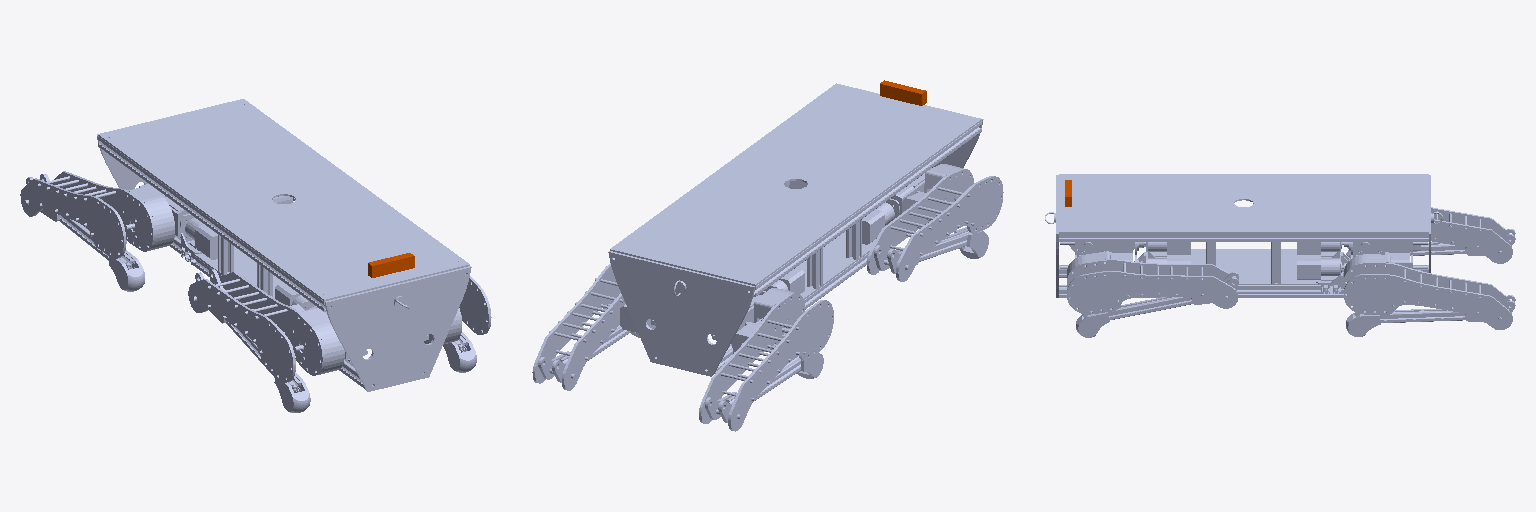
--- What the picture shows (computed from the rendered views, not written in the file) ---
The picture shows the robot from 3 angles, left to right: view 1: azimuth 30°, elevation 25°; view 2: azimuth 150°, elevation 25°; view 3: azimuth 270°, elevation 25°; orthographic projection.
Robot: description_v2 — 14 links, 13 joints (12 revolute, 1 fixed); root link base_link; default pose: every joint at zero.
Links seen in each view (by area): view 1: base_link, frhp, rrhp, rrkp, flhp, frkp, flkp, camera_link; view 2: base_link, rrhp, frhp, rlhp, frkp, rrkp, rlkp, camera_link; view 3: base_link, rlhp, flhp, rrhp, rlkp, flkp, rrkp, rrhr, frhr.
Link boxes in pixels (box(x1,y1,x2,y2)): base_link: box(97, 99, 471, 391); frhp: box(188, 271, 344, 382); rrhp: box(20, 171, 174, 258); rrkp: box(26, 174, 144, 291); flhp: box(424, 276, 491, 344); frkp: box(195, 269, 310, 412); flkp: box(443, 332, 476, 372); camera_link: box(368, 253, 414, 277); base_link: box(608, 83, 983, 376); rrhp: box(699, 288, 833, 431); frhp: box(867, 164, 1003, 281); rlhp: box(532, 263, 650, 390); frkp: box(874, 227, 988, 273); rrkp: box(705, 353, 823, 422); rlkp: box(538, 325, 655, 382); camera_link: box(880, 80, 926, 105); base_link: box(1045, 174, 1442, 297); rlhp: box(1344, 254, 1512, 329); flhp: box(1067, 251, 1237, 314); rrhp: box(1347, 207, 1512, 263); rlkp: box(1346, 295, 1515, 336); flkp: box(1076, 272, 1238, 337); rrkp: box(1346, 229, 1515, 258); rrhr: box(1344, 242, 1427, 254); frhr: box(1060, 242, 1143, 254).
Size in the robot's own frame: 0.3837 by 0.9414 by 0.2545 metres.
13 mesh visuals loaded from 13 distinct referenced files (13 binary STL).

robot.urdf — description_v2:
<?xml version="1.0" encoding="utf-8" ?>
<!-- This URDF was automatically created by SolidWorks to URDF Exporter! Originally created by Stephen Brawner ([email redacted]) 
     Commit Version: 1.6.0-1-g15f4949  Build Version: 1.6.7594.29634
     For more information, please see http://wiki.ros.org/sw_urdf_exporter -->
<robot name="description_v2">
    <link name="base_link">
        <inertial>
            <origin xyz="1.10071300954903E-13 -0.0804314674208866 -3.72594215378661E-13" rpy="0 0 0" />
            <mass value="2.59149526077751" />
            <inertia ixx="0.0556620512133462" ixy="1.41894541422012E-08" ixz="-9.1623414139393E-16" iyy="0.0609675024722487" iyz="1.98357895211907E-15" izz="0.00751873000876317" />
        </inertial>
        <visual>
            <origin xyz="0 0 0" rpy="0 0 0" />
            <geometry>
                <mesh filename="package://description_v2/meshes/base_link.STL" />
            </geometry>
            <material name="">
                <color rgba="0.792156862745098 0.819607843137255 0.933333333333333 1" />
            </material>
        </visual>
        <collision>
            <origin xyz="0 0 0" rpy="0 0 0" />
            <geometry>
                <mesh filename="package://description_v2/meshes/base_link.STL" />
            </geometry>
        </collision>
    </link>
    <link name="flhr">
        <inertial>
            <origin xyz="-0.0700708098978081 2.63677968348475E-16 -0.000779776432071576" rpy="0 0 0" />
            <mass value="0.194475232481071" />
            <inertia ixx="4.95706831903783E-05" ixy="3.56082054761659E-20" ixz="1.47917712706166E-05" iyy="0.000249341771263753" iyz="-4.37225042511692E-22" izz="0.000252242436696808" />
        </inertial>
        <visual>
            <origin xyz="0 0 0" rpy="0 0 0" />
            <geometry>
                <mesh filename="package://description_v2/meshes/flhr.STL" />
            </geometry>
            <material name="">
                <color rgba="0.792156862745098 0.819607843137255 0.933333333333333 1" />
            </material>
        </visual>
        <collision>
            <origin xyz="0 0 0" rpy="0 0 0" />
            <geometry>
                <mesh filename="package://description_v2/meshes/flhr.STL" />
            </geometry>
        </collision>
    </link>
    <joint name="j_flhr" type="revolute">
        <origin xyz="0.0574999999996618 -0.200299999999298 -0.114999999999853" rpy="1.5707963267949 0 1.5707963267949" />
        <parent link="base_link" />
        <child link="flhr" />
        <axis xyz="1 0 0" />
        <limit lower="-0.5236" upper="0.34907" effort="10" velocity="10" />
    </joint>
    <link name="flhp">
        <inertial>
            <origin xyz="0.0625017771112232 -0.00995729962485614 0.0500334632748604" rpy="0 0 0" />
            <mass value="0.54805543393771" />
            <inertia ixx="0.000366842886944484" ixy="0.000385861397834549" ixz="1.60537120413725E-05" iyy="0.00215260706012929" iyz="-4.291557447141E-06" izz="0.00242131957628299" />
        </inertial>
        <visual>
            <origin xyz="0 0 0" rpy="0 0 0" />
            <geometry>
                <mesh filename="package://description_v2/meshes/flhp.STL" />
            </geometry>
            <material name="">
                <color rgba="0.792156862745098 0.819607843137255 0.933333333333333 1" />
            </material>
        </visual>
        <collision>
            <origin xyz="0 0 0" rpy="0 0 0" />
            <geometry>
                <mesh filename="package://description_v2/meshes/flhp.STL" />
            </geometry>
        </collision>
    </link>
    <joint name="j_flhp" type="revolute">
        <origin xyz="-0.11 0 0.01935" rpy="0 0 0.23805" />
        <parent link="flhr" />
        <child link="flhp" />
        <axis xyz="0 0 1" />
        <limit lower="-1.5708" upper="0" effort="10" velocity="10" />
    </joint>
    <link name="flkp">
        <inertial>
            <origin xyz="-0.142429073555873 -0.095200420459897 0.0169765532365606" rpy="0 0 0" />
            <mass value="0.121696080036638" />
            <inertia ixx="9.46916554390342E-05" ixy="-0.000113408885572565" ixz="6.44304181281108E-11" iyy="0.000189243119965143" iyz="-1.12326363178312E-10" izz="0.000269729577438877" />
        </inertial>
        <visual>
            <origin xyz="0 0 0" rpy="0 0 0" />
            <geometry>
                <mesh filename="package://description_v2/meshes/flkp.STL" />
            </geometry>
            <material name="">
                <color rgba="0.792156862745098 0.819607843137255 0.933333333333333 1" />
            </material>
        </visual>
        <collision>
            <origin xyz="0 0 0" rpy="0 0 0" />
            <geometry>
                <mesh filename="package://description_v2/meshes/flkp.STL" />
            </geometry>
        </collision>
    </link>
    <joint name="j_flkp" type="revolute">
        <origin xyz="0.265328222917277 -0.0707172830612114 0.0630234621858951" rpy="0 0 -0.584123837375273" />
        <parent link="flhp" />
        <child link="flkp" />
        <axis xyz="0 0 1" />
        <limit lower="0" upper="1.6057" effort="10" velocity="10" />
    </joint>
    <link name="rlhr">
        <inertial>
            <origin xyz="0.0798069766837164 8.86630914381792E-08 -0.000779776427032086" rpy="0 0 0" />
            <mass value="0.194475232481071" />
            <inertia ixx="4.95706831903784E-05" ixy="-9.74751830526731E-10" ixz="8.66258797825681E-06" iyy="0.000250295953234289" iyz="-3.25265625917476E-10" izz="0.000253196618594397" />
        </inertial>
        <visual>
            <origin xyz="0 0 0" rpy="0 0 0" />
            <geometry>
                <mesh filename="package://description_v2/meshes/rlhr.STL" />
            </geometry>
            <material name="">
                <color rgba="0.792156862745098 0.819607843137255 0.933333333333333 1" />
            </material>
        </visual>
        <collision>
            <origin xyz="0 0 0" rpy="0 0 0" />
            <geometry>
                <mesh filename="package://description_v2/meshes/rlhr.STL" />
            </geometry>
        </collision>
    </link>
    <joint name="j_rlhr" type="revolute">
        <origin xyz="0.0574999999996628 0.200300000000701 -0.114999999999858" rpy="1.57068414749628 0 1.5707963267949" />
        <parent link="base_link" />
        <child link="rlhr" />
        <axis xyz="1 0 0" />
        <limit lower="-0.5236" upper="0.34907" effort="10" velocity="10" />
    </joint>
    <link name="rlhp">
        <inertial>
            <origin xyz="0.0625017771112245 -0.00995729962485425 0.0500334632748606" rpy="0 0 0" />
            <mass value="0.548055433937709" />
            <inertia ixx="0.000366842886944487" ixy="0.000385861397834558" ixz="1.60537120413725E-05" iyy="0.00215260706012928" iyz="-4.29155744714101E-06" izz="0.00242131957628299" />
        </inertial>
        <visual>
            <origin xyz="0 0 0" rpy="0 0 0" />
            <geometry>
                <mesh filename="package://description_v2/meshes/rlhp.STL" />
            </geometry>
            <material name="">
                <color rgba="0.792156862745098 0.819607843137255 0.933333333333333 1" />
            </material>
        </visual>
        <collision>
            <origin xyz="0 0 0" rpy="0 0 0" />
            <geometry>
                <mesh filename="package://description_v2/meshes/rlhp.STL" />
            </geometry>
        </collision>
    </link>
    <joint name="j_rlhp" type="revolute">
        <origin xyz="0.043 0 0.01935" rpy="0.00011195 0 0.063519" />
        <parent link="rlhr" />
        <child link="rlhp" />
        <axis xyz="0 0 1" />
        <limit lower="-1.3963" upper="0" effort="10" velocity="10" />
    </joint>
    <link name="rlkp">
        <inertial>
            <origin xyz="-0.142429113121171 -0.0952004635662916 0.0169765557128041" rpy="0 0 0" />
            <mass value="0.121696119554221" />
            <inertia ixx="9.46916642378556E-05" ixy="-0.000113408954060324" ixz="6.22689213955761E-11" iyy="0.000189243100533313" iyz="-9.73939890663566E-11" izz="0.000269729635188775" />
        </inertial>
        <visual>
            <origin xyz="0 0 0" rpy="0 0 0" />
            <geometry>
                <mesh filename="package://description_v2/meshes/rlkp.STL" />
            </geometry>
            <material name="">
                <color rgba="0.792156862745098 0.819607843137255 0.933333333333333 1" />
            </material>
        </visual>
        <collision>
            <origin xyz="0 0 0" rpy="0 0 0" />
            <geometry>
                <mesh filename="package://description_v2/meshes/rlkp.STL" />
            </geometry>
        </collision>
    </link>
    <joint name="j_rlkp" type="revolute">
        <origin xyz="0.265328222917278 -0.0707172830612103 0.0630234621858946" rpy="0 0 -0.584123837375259" />
        <parent link="rlhp" />
        <child link="rlkp" />
        <axis xyz="0 0 1" />
        <limit lower="0" upper="1.6057" effort="10" velocity="10" />
    </joint>
    <link name="frhr">
        <inertial>
            <origin xyz="-0.0700708098978081 2.4980018054066E-16 -0.000779776432071645" rpy="0 0 0" />
            <mass value="0.194475232481071" />
            <inertia ixx="4.95706831903784E-05" ixy="8.70781725227972E-21" ixz="1.47917712706164E-05" iyy="0.000249341771263753" iyz="-1.6648663486486E-20" izz="0.000252242436696808" />
        </inertial>
        <visual>
            <origin xyz="0 0 0" rpy="0 0 0" />
            <geometry>
                <mesh filename="package://description_v2/meshes/frhr.STL" />
            </geometry>
            <material name="">
                <color rgba="0.792156862745098 0.819607843137255 0.933333333333333 1" />
            </material>
        </visual>
        <collision>
            <origin xyz="0 0 0" rpy="0 0 0" />
            <geometry>
                <mesh filename="package://description_v2/meshes/frhr.STL" />
            </geometry>
        </collision>
    </link>
    <joint name="j_frhr" type="revolute">
        <origin xyz="-0.0575000000003381 -0.200299999999298 -0.114999999999853" rpy="-1.5707963267949 0 1.5707963267949" />
        <parent link="base_link" />
        <child link="frhr" />
        <axis xyz="1 0 0" />
        <limit lower="-0.34907" upper="0.5236" effort="10" velocity="10" />
    </joint>
    <link name="frhp">
        <inertial>
            <origin xyz="0.0591532407326759 -0.0178475201337677 -0.0629327952000434" rpy="0 0 0" />
            <mass value="0.54805543393771" />
            <inertia ixx="0.000595462574673477" ixy="0.000709669958273173" ixz="3.83623609434648E-05" iyy="0.00192565530652331" iyz="-2.97095678996208E-05" izz="0.00241965164215998" />
        </inertial>
        <visual>
            <origin xyz="0 0 0" rpy="0 0 0" />
            <geometry>
                <mesh filename="package://description_v2/meshes/frhp.STL" />
            </geometry>
            <material name="">
                <color rgba="0.792156862745098 0.819607843137255 0.933333333333333 1" />
            </material>
        </visual>
        <collision>
            <origin xyz="0 0 0" rpy="0 0 0" />
            <geometry>
                <mesh filename="package://description_v2/meshes/frhp.STL" />
            </geometry>
        </collision>
    </link>
    <joint name="j_frhp" type="revolute">
        <origin xyz="-0.11 0 0.0079623" rpy="3.0667 0 -0.44362" />
        <parent link="frhr" />
        <child link="frhp" />
        <axis xyz="0 0.074816 0.9972" />
        <limit lower="-1.5708" upper="0" effort="10" velocity="10" />
    </joint>
    <link name="frkp">
        <inertial>
            <origin xyz="-0.142429073555874 -0.0952004204598976 -0.0169765223916483" rpy="0 0 0" />
            <mass value="0.121696080036638" />
            <inertia ixx="9.46916554390361E-05" ixy="-0.000113408885572566" ixz="6.4430418163184E-11" iyy="0.000189243119965144" iyz="-1.12326363238963E-10" izz="0.00026972957743888" />
        </inertial>
        <visual>
            <origin xyz="0 0 0" rpy="0 0 0" />
            <geometry>
                <mesh filename="package://description_v2/meshes/frkp.STL" />
            </geometry>
            <material name="">
                <color rgba="0.792156862745098 0.819607843137255 0.933333333333333 1" />
            </material>
        </visual>
        <collision>
            <origin xyz="0 0 0" rpy="0 0 0" />
            <geometry>
                <mesh filename="package://description_v2/meshes/frkp.STL" />
            </geometry>
        </collision>
    </link>
    <joint name="j_frkp" type="revolute">
        <origin xyz="0.245306433029375 -0.117475688203158 -0.0834340122882161" rpy="0.0527739825632841 0.0531545790485347 -0.788291160012052" />
        <parent link="frhp" />
        <child link="frkp" />
        <axis xyz="0 0 1" />
        <limit lower="0" upper="1.6057" effort="10" velocity="10" />
    </joint>
    <link name="rrhr">
        <inertial>
            <origin xyz="0.0798069766837167 -1.19348975147204E-15 -0.000779776432071305" rpy="0 0 0" />
            <mass value="0.194475232481071" />
            <inertia ixx="4.95706831903783E-05" ixy="1.2072188527264E-18" ixz="8.66258803309774E-06" iyy="0.000250295953197816" iyz="-1.20524956023707E-19" izz="0.000253196618630871" />
        </inertial>
        <visual>
            <origin xyz="0 0 0" rpy="0 0 0" />
            <geometry>
                <mesh filename="package://description_v2/meshes/rrhr.STL" />
            </geometry>
            <material name="">
                <color rgba="0.792156862745098 0.819607843137255 0.933333333333333 1" />
            </material>
        </visual>
        <collision>
            <origin xyz="0 0 0" rpy="0 0 0" />
            <geometry>
                <mesh filename="package://description_v2/meshes/rrhr.STL" />
            </geometry>
        </collision>
    </link>
    <joint name="j_rrhr" type="revolute">
        <origin xyz="-0.057500000000338 0.200300000000701 -0.114999999999853" rpy="-1.5707963267949 0 1.5707963267949" />
        <parent link="base_link" />
        <child link="rrhr" />
        <axis xyz="1 0 0" />
        <limit lower="-0.34907" upper="0.5236" effort="10" velocity="10" />
    </joint>
    <link name="rrhp">
        <inertial>
            <origin xyz="0.0591532407326774 -0.0178475201337657 -0.0629327952000437" rpy="0 0 0" />
            <mass value="0.54805543393771" />
            <inertia ixx="0.000595462574673472" ixy="0.000709669958273168" ixz="3.83623609434638E-05" iyy="0.00192565530652331" iyz="-2.97095678996202E-05" izz="0.00241965164215999" />
        </inertial>
        <visual>
            <origin xyz="0 0 0" rpy="0 0 0" />
            <geometry>
                <mesh filename="package://description_v2/meshes/rrhp.STL" />
            </geometry>
            <material name="">
                <color rgba="0.792156862745098 0.819607843137255 0.933333333333333 1" />
            </material>
        </visual>
        <collision>
            <origin xyz="0 0 0" rpy="0 0 0" />
            <geometry>
                <mesh filename="package://description_v2/meshes/rrhp.STL" />
            </geometry>
        </collision>
    </link>
    <joint name="j_rrhp" type="revolute">
        <origin xyz="0.043 0 0.0079623" rpy="3.0667 0 -0.26909" />
        <parent link="rrhr" />
        <child link="rrhp" />
        <axis xyz="0 0.074816 0.9972" />
        <limit lower="-1.3963" upper="0" effort="10" velocity="10" />
    </joint>
    <link name="rrkp">
        <inertial>
            <origin xyz="-0.14242911312117 -0.0952004635662914 -0.0169765199154071" rpy="0 0 0" />
            <mass value="0.121696119554221" />
            <inertia ixx="9.46916642378566E-05" ixy="-0.000113408954060326" ixz="6.22689214339487E-11" iyy="0.000189243100533313" iyz="-9.73939890610832E-11" izz="0.000269729635188776" />
        </inertial>
        <visual>
            <origin xyz="0 0 0" rpy="0 0 0" />
            <geometry>
                <mesh filename="package://description_v2/meshes/rrkp.STL" />
            </geometry>
            <material name="">
                <color rgba="0.792156862745098 0.819607843137255 0.933333333333333 1" />
            </material>
        </visual>
        <collision>
            <origin xyz="0 0 0" rpy="0 0 0" />
            <geometry>
                <mesh filename="package://description_v2/meshes/rrkp.STL" />
            </geometry>
        </collision>
    </link>
    <joint name="j_rrkp" type="revolute">
        <origin xyz="0.24531 -0.11748 -0.083434" rpy="0.052774 0.053155 -0.78829" />
        <parent link="rrhp" />
        <child link="rrkp" />
        <axis xyz="0 0 1" />
        <limit lower="0" upper="1.6057" effort="10" velocity="10" />
    </joint>
    <link name="camera_link">
        <visual>
            <origin xyz="0 0 0" rpy="0 0 0" />
            <geometry>
                <box size="0.015 0.08 0.022" />
            </geometry>
        </visual>
        <collision>
            <origin xyz="0 0 0" rpy="0 0 0" />
            <geometry>
                <box size="0.015 0.08 0.022" />
            </geometry>
        </collision>
        <inertial>
            <mass value="1e-5" />
            <origin xyz="0 0 0" rpy="0 0 0" />
            <inertia ixx="1e-6" ixy="0" ixz="0" iyy="1e-6" iyz="0" izz="1e-6" />
        </inertial>
    </link>
    <joint name="camera_mount" type="fixed">
        <origin xyz="0 -0.35 0.022" rpy="0 0 -1.57075" />
        <parent link="base_link" />
        <child link="camera_link" />
    </joint>
    <!--
        <gazebo reference="camera_link">
            <sensor type="camera" name="camera">
            <update_rate>30.0</update_rate>
            <camera name="head">
                <horizontal_fov>1.3962634</horizontal_fov>
                <image>
                    <width>800</width>
                    <height>800</height>
                    <format>R8G8B8</format>
                </image>
                <clip>
                    <near>0.02</near>
                    <far>300</far>
                </clip>
                <noise>
                    <type>gaussian</type>                    
                    <mean>0.0</mean>
                    <stddev>0.007</stddev>
                </noise>
            </camera>
            <plugin name="camera_controller" filename="libgazebo_ros_camera.so">
                <alwaysOn>true</alwaysOn>
                <updateRate>0.0</updateRate>
                <cameraName>description_v2/camera</cameraName>
                <imageTopicName>image_raw</imageTopicName>
                <cameraInfoTopicName>camera_info</cameraInfoTopicName>
                <frameName>camera_link</frameName>
                <hackBaseline>0.07</hackBaseline>
                <distortionK1>0.0</distortionK1>
                <distortionK2>0.0</distortionK2>
                <distortionK3>0.0</distortionK3>
                <distortionT1>0.0</distortionT1>
                <distortionT2>0.0</distortionT2>
            </plugin>
            </sensor>
        </gazebo>
    -->
    <gazebo reference="camera_link">
        <sensor name="camera_link_camera" type="depth">
            <update_rate>20</update_rate>
            <camera>
                <horizontal_fov>1.047198</horizontal_fov>
                <image>
                    <width>640</width>
                    <height>480</height>
                    <format>R8G8B8</format>
                </image>
                <clip>
                    <near>0.05</near>
                    <far>3</far>
                </clip>
            </camera>
            <plugin name="camera_link_controller" filename="libgazebo_ros_openni_kinect.so">
                <baseline>0.2</baseline>
                <alwaysOn>true</alwaysOn>
                <updateRate>1.0</updateRate>
                <cameraName>description_v2/camera</cameraName>
                <imageTopicName>/camera/color/image_raw</imageTopicName>
                <cameraInfoTopicName>/camera/color/camera_info</cameraInfoTopicName>
                <depthImageTopicName>/camera/depth/image_raw</depthImageTopicName>
                <depthImageInfoTopicName>/camera/depth/camera_info</depthImageInfoTopicName>
                <pointCloudTopicName>/camera/depth/points</pointCloudTopicName>
                <frameName>depth_camera_link</frameName>
                <pointCloudCutoff>0.5</pointCloudCutoff>
                <pointCloudCutoffMax>3.0</pointCloudCutoffMax>
                <distortionK1>0.00000001</distortionK1>
                <distortionK2>0.00000001</distortionK2>
                <distortionK3>0.00000001</distortionK3>
                <distortionT1>0.00000001</distortionT1>
                <distortionT2>0.00000001</distortionT2>
                <CxPrime>0</CxPrime>
                <Cx>0</Cx>
                <Cy>0</Cy>
                <focalLength>0</focalLength>
                <hackBaseline>0</hackBaseline>
            </plugin>
        </sensor>
        <plugin name="gazebo_ros_control">
            <robotNamespace>/</robotNamespace>
        </plugin>
    </gazebo>
    <transmission name="trans_j_flhr">
        <type>transmission_interface/SimpleTransmission</type>
        <joint name="j_flhr">
            <hardwareInterface>hardware_interface/EffortJointInterface</hardwareInterface>
        </joint>
        <actuator name="j_flhr_motor">
            <hardwareInterface>hardware_interface/EffortJointInterface</hardwareInterface>
            <mechanicalReduction>1</mechanicalReduction>
        </actuator>
    </transmission>
    <transmission name="trans_j_flhp">
        <type>transmission_interface/SimpleTransmission</type>
        <joint name="j_flhp">
            <hardwareInterface>hardware_interface/EffortJointInterface</hardwareInterface>
        </joint>
        <actuator name="j_flhp_motor">
            <hardwareInterface>hardware_interface/EffortJointInterface</hardwareInterface>
            <mechanicalReduction>1</mechanicalReduction>
        </actuator>
    </transmission>
    <transmission name="trans_j_flkp">
        <type>transmission_interface/SimpleTransmission</type>
        <joint name="j_flkp">
            <hardwareInterface>hardware_interface/EffortJointInterface</hardwareInterface>
        </joint>
        <actuator name="j_flkp_motor">
            <hardwareInterface>hardware_interface/EffortJointInterface</hardwareInterface>
            <mechanicalReduction>1</mechanicalReduction>
        </actuator>
    </transmission>
    <transmission name="trans_j_rlhr">
        <type>transmission_interface/SimpleTransmission</type>
        <joint name="j_rlhr">
            <hardwareInterface>hardware_interface/EffortJointInterface</hardwareInterface>
        </joint>
        <actuator name="j_rlhr_motor">
            <hardwareInterface>hardware_interface/EffortJointInterface</hardwareInterface>
            <mechanicalReduction>1</mechanicalReduction>
        </actuator>
    </transmission>
    <transmission name="trans_j_rlhp">
        <type>transmission_interface/SimpleTransmission</type>
        <joint name="j_rlhp">
            <hardwareInterface>hardware_interface/EffortJointInterface</hardwareInterface>
        </joint>
        <actuator name="j_rlhp_motor">
            <hardwareInterface>hardware_interface/EffortJointInterface</hardwareInterface>
            <mechanicalReduction>1</mechanicalReduction>
        </actuator>
    </transmission>
    <transmission name="trans_j_rlkp">
        <type>transmission_interface/SimpleTransmission</type>
        <joint name="j_rlkp">
            <hardwareInterface>hardware_interface/EffortJointInterface</hardwareInterface>
        </joint>
        <actuator name="j_rlkp_motor">
            <hardwareInterface>hardware_interface/EffortJointInterface</hardwareInterface>
            <mechanicalReduction>1</mechanicalReduction>
        </actuator>
    </transmission>
    <transmission name="trans_j_frhr">
        <type>transmission_interface/SimpleTransmission</type>
        <joint name="j_frhr">
            <hardwareInterface>hardware_interface/EffortJointInterface</hardwareInterface>
        </joint>
        <actuator name="j_frhr_motor">
            <hardwareInterface>hardware_interface/EffortJointInterface</hardwareInterface>
            <mechanicalReduction>1</mechanicalReduction>
        </actuator>
    </transmission>
    <transmission name="trans_j_frhp">
        <type>transmission_interface/SimpleTransmission</type>
        <joint name="j_frhp">
            <hardwareInterface>hardware_interface/EffortJointInterface</hardwareInterface>
        </joint>
        <actuator name="j_frhp_motor">
            <hardwareInterface>hardware_interface/EffortJointInterface</hardwareInterface>
            <mechanicalReduction>1</mechanicalReduction>
        </actuator>
    </transmission>
    <transmission name="trans_j_frkp">
        <type>transmission_interface/SimpleTransmission</type>
        <joint name="j_frkp">
            <hardwareInterface>hardware_interface/EffortJointInterface</hardwareInterface>
        </joint>
        <actuator name="j_frkp_motor">
            <hardwareInterface>hardware_interface/EffortJointInterface</hardwareInterface>
            <mechanicalReduction>1</mechanicalReduction>
        </actuator>
    </transmission>
    <transmission name="trans_j_rrhr">
        <type>transmission_interface/SimpleTransmission</type>
        <joint name="j_rrhr">
            <hardwareInterface>hardware_interface/EffortJointInterface</hardwareInterface>
        </joint>
        <actuator name="j_rrhr_motor">
            <hardwareInterface>hardware_interface/EffortJointInterface</hardwareInterface>
            <mechanicalReduction>1</mechanicalReduction>
        </actuator>
    </transmission>
    <transmission name="trans_j_rrhp">
        <type>transmission_interface/SimpleTransmission</type>
        <joint name="j_rrhp">
            <hardwareInterface>hardware_interface/EffortJointInterface</hardwareInterface>
        </joint>
        <actuator name="j_rrhp_motor">
            <hardwareInterface>hardware_interface/EffortJointInterface</hardwareInterface>
            <mechanicalReduction>1</mechanicalReduction>
        </actuator>
    </transmission>
    <transmission name="trans_j_rrkp">
        <type>transmission_interface/SimpleTransmission</type>
        <joint name="j_rrkp">
            <hardwareInterface>hardware_interface/EffortJointInterface</hardwareInterface>
        </joint>
        <actuator name="j_rrkp_motor">
            <hardwareInterface>hardware_interface/EffortJointInterface</hardwareInterface>
            <mechanicalReduction>1</mechanicalReduction>
        </actuator>
    </transmission>
    <gazebo>
        <plugin name="gazebo_ros_control" filename="libgazebo_ros_control.so">
            <robotNamespace>/</robotNamespace>
        </plugin>
    </gazebo>
    <gazebo reference="base_link">
        <mu1>1.5</mu1>
        <mu2>1.5</mu2>
        <kp>1e15</kp>
        <kd>1e15</kd>
    </gazebo>
    <gazebo reference="flhr">
        <mu1>1.5</mu1>
        <mu2>1.5</mu2>
        <kp>1e15</kp>
        <kd>1e15</kd>
    </gazebo>
    <gazebo reference="flhp">
        <mu1>1.5</mu1>
        <mu2>1.5</mu2>
        <kp>1e15</kp>
        <kd>1e15</kd>
    </gazebo>
    <gazebo reference="flkp">
        <mu1>1.5</mu1>
        <mu2>1.5</mu2>
        <kp>1e15</kp>
        <kd>1e15</kd>
    </gazebo>
    <gazebo reference="rlhr">
        <mu1>1.5</mu1>
        <mu2>1.5</mu2>
        <kp>1e15</kp>
        <kd>1e15</kd>
    </gazebo>
    <gazebo reference="rlhp">
        <mu1>1.5</mu1>
        <mu2>1.5</mu2>
        <kp>1e15</kp>
        <kd>1e15</kd>
    </gazebo>
    <gazebo reference="rlkp">
        <mu1>1.5</mu1>
        <mu2>1.5</mu2>
        <kp>1e15</kp>
        <kd>1e15</kd>
    </gazebo>
    <gazebo reference="frhr">
        <mu1>1.5</mu1>
        <mu2>1.5</mu2>
        <kp>1e15</kp>
        <kd>1e15</kd>
    </gazebo>
    <gazebo reference="frhp">
        <mu1>1.5</mu1>
        <mu2>1.5</mu2>
        <kp>1e15</kp>
        <kd>1e15</kd>
    </gazebo>
    <gazebo reference="frkp">
        <mu1>1.5</mu1>
        <mu2>1.5</mu2>
        <kp>1e15</kp>
        <kd>1e15</kd>
    </gazebo>
    <gazebo reference="rrhr">
        <mu1>1.5</mu1>
        <mu2>1.5</mu2>
        <kp>1e15</kp>
        <kd>1e15</kd>
    </gazebo>
    <gazebo reference="rrhp">
        <mu1>1.5</mu1>
        <mu2>1.5</mu2>
        <kp>1e15</kp>
        <kd>1e15</kd>
    </gazebo>
    <gazebo reference="rrkp">
        <mu1>1.5</mu1>
        <mu2>1.5</mu2>
        <kp>1e15</kp>
        <kd>1e15</kd>
    </gazebo>
</robot>
